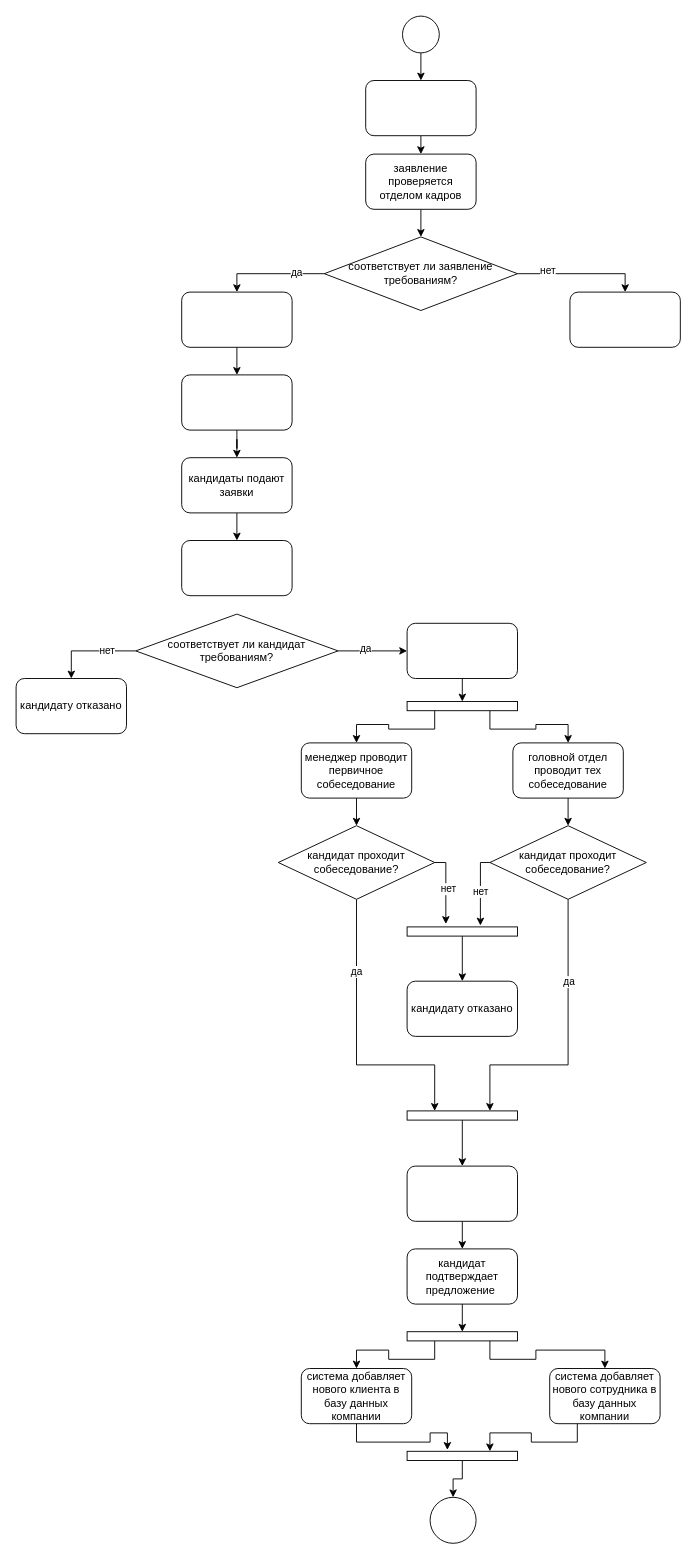
This 696x1559 diagram has some shape labels left out. Each missing label, with the centre of its shape:
"вакансия опубликована на сайте компании" belongs at (x=236, y=402).
"головной отдел создает заявление о приеме на работу" belongs at (x=420, y=108).
"заявка одобрена" belongs at (x=236, y=319).
"кандидата приглашают на собеседование" belongs at (x=462, y=650).
"кандидату предлагается предложение" belongs at (x=462, y=1193).
"менеджер получает уведомление о необходимости пересмотра" belongs at (x=624, y=319).
"отдел кадров проверяет профили кандидатов" belongs at (x=236, y=568).
